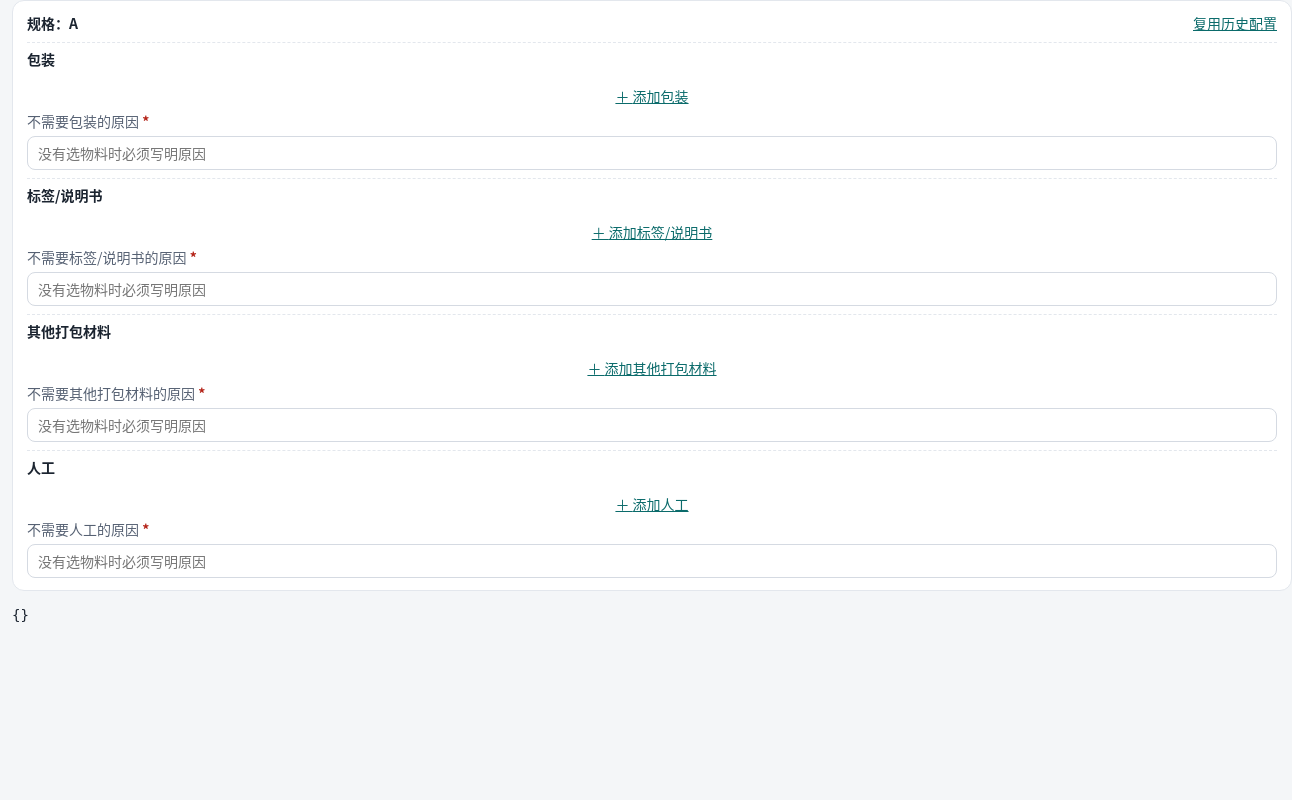
Test: SKU 批量申请：数量系列、独立办理、历史配置 › 仓库：复用历史配置（按主商品列出，填入后带出物料名称，已有内容先确认）
Click the button with aria-label "复用规格 A 的历史仓库配置".
click(1235, 24)  # box [1193,13,1277,34]
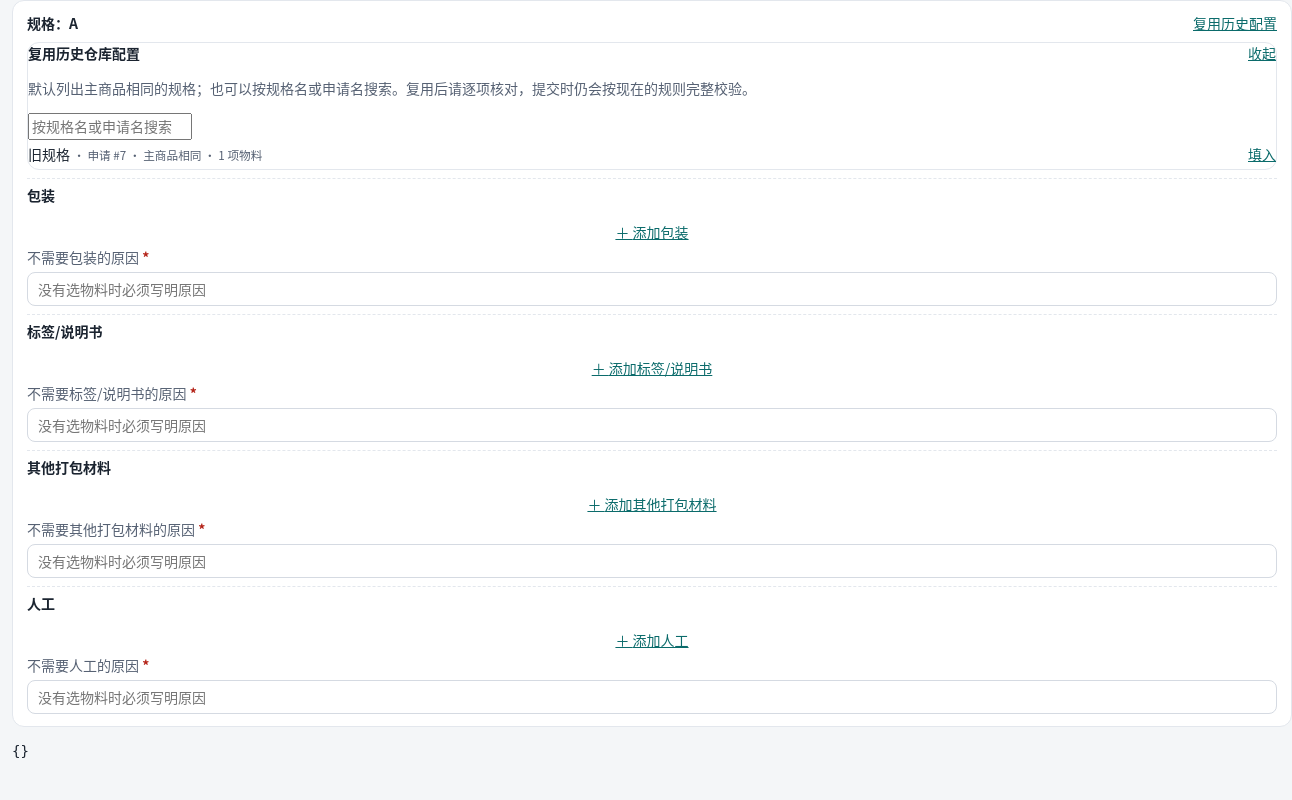
Now the text "· 申请 #7 · 主商品相同 · 1 项物料" is shown, box [73,146,262,163]
Click the button with aria-label "填入申请 #7 的配置".
click(1262, 154)  # box [1248,144,1276,165]
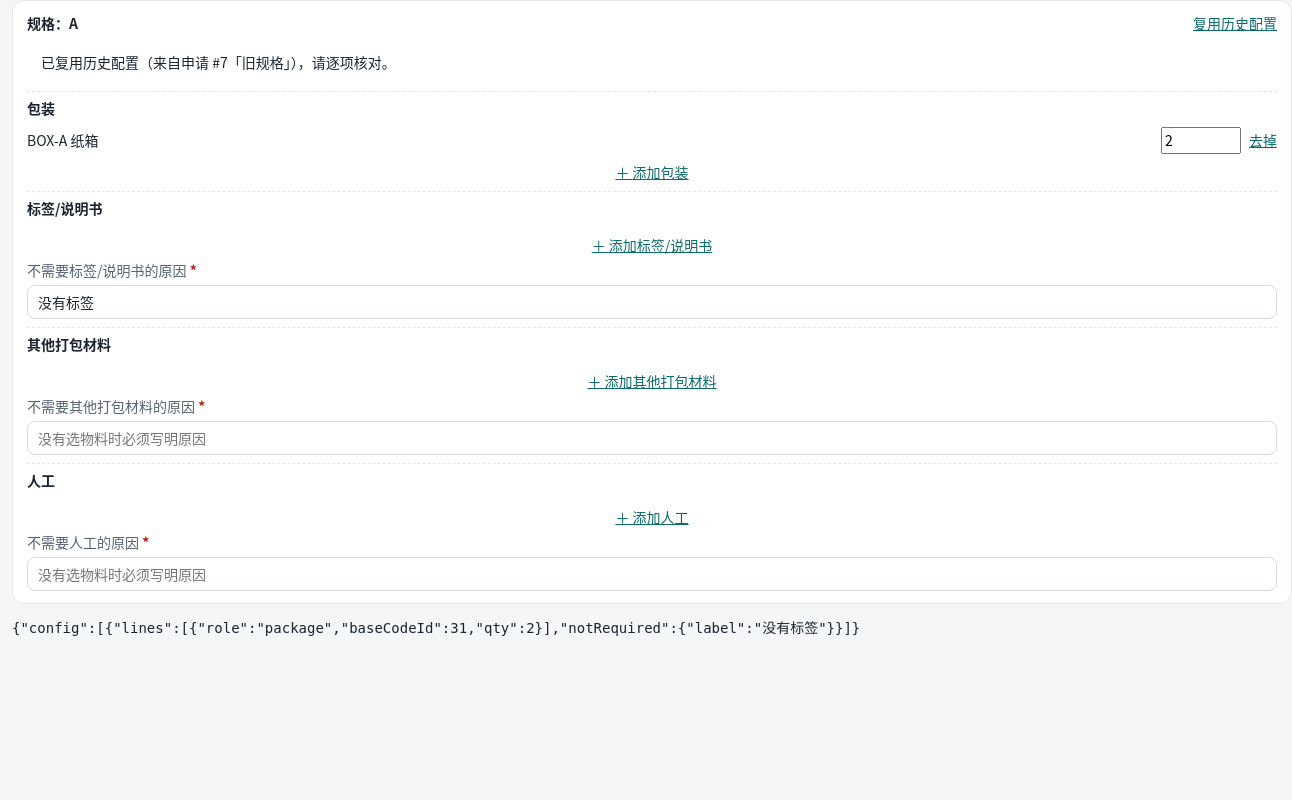
Now the text "已复用历史配置（来自申请 #7「旧规格」），请逐项核对。" is shown, box [41,52,396,72]
Now the text "BOX-A 纸箱" is shown, box [27,130,98,150]
